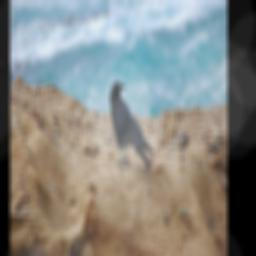Crow: (109, 77, 155, 172)
